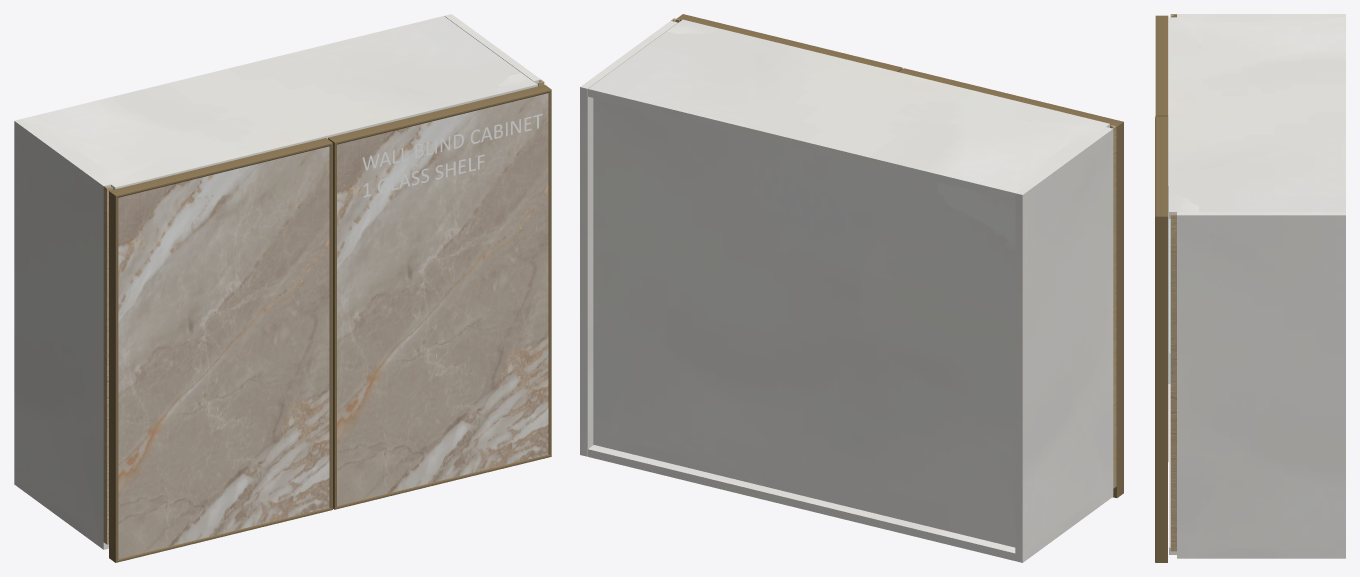
The model's file is WB-SH-NHX-GL-1SG-LHS-XXX-900-725-336-15.glb.
The picture shows the model from 3 angles, left to right: view 1: azimuth 30°, elevation 25°; view 2: azimuth 150°, elevation 25°; view 3: azimuth 270°, elevation 25°; orthographic projection. The views are drawn at different scales.
Visible parts, largest first — view 1: Object_node_4, Object_node_6, TP, TP_node_0, Extrusion_node_1, Object_node_8, Extrusion, Extrusion_node_2, 2D text, Extrusion_node_5, Extrusion_node, Extrusion_node_3 (+3 smaller); view 2: TP_node_2, TP, TP_node_0, TP_node, TP_node_1, Extrusion_node_1, Object_node_8, Extrusion_node_2, Extrusion; view 3: TP_node_1, TP, Extrusion_node_3, Object_node_16, Extrusion, Extrusion_node_2, TP_node_0, TP_node, Extrusion_node, Object_node_1.
Part boxes in pixels (x1,y1,x2,y2): Object_node_4: [118, 146, 329, 558]; Object_node_6: [337, 93, 548, 505]; TP: [22, 16, 537, 189]; TP_node_0: [14, 119, 110, 549]; Extrusion_node_1: [109, 191, 118, 562]; Object_node_8: [103, 186, 112, 544]; Extrusion: [109, 138, 332, 197]; Extrusion_node_2: [328, 85, 551, 144]; 2D text: [362, 114, 542, 197]; Extrusion_node_5: [328, 138, 336, 509]; Extrusion_node: [329, 143, 332, 509]; Extrusion_node_3: [548, 90, 551, 456]; TP_node_2: [593, 98, 1015, 547]; TP: [588, 19, 1109, 200]; TP_node_0: [1015, 127, 1113, 562]; TP_node: [588, 445, 1015, 560]; TP_node_1: [580, 21, 677, 456]; Extrusion_node_1: [1113, 122, 1123, 497]; Object_node_8: [1110, 125, 1116, 488]; Extrusion_node_2: [676, 14, 902, 71]; Extrusion: [899, 68, 1123, 126]; TP_node_1: [1177, 212, 1345, 558]; TP: [1169, 17, 1345, 218]; Extrusion_node_3: [1155, 216, 1167, 562]; Object_node_16: [1170, 212, 1176, 551]; Extrusion: [1155, 15, 1168, 115]; Extrusion_node_2: [1155, 116, 1167, 216]; TP_node_0: [1177, 14, 1345, 17]; TP_node: [1169, 353, 1176, 554]; Extrusion_node: [1156, 115, 1168, 461]; Object_node_1: [1168, 219, 1169, 383].
Size of what is drawn, in the model's own units: 0.9 by 0.725 by 0.366.
7 materials, 3 textured.
